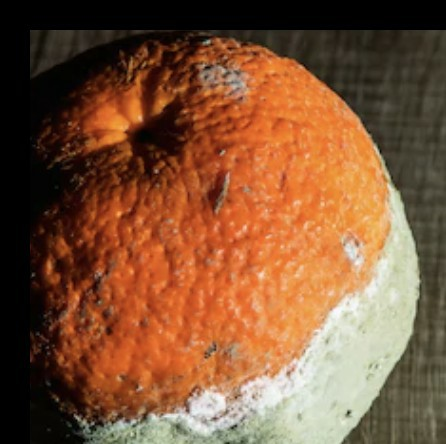rotten_orange: (14, 31, 422, 444)
